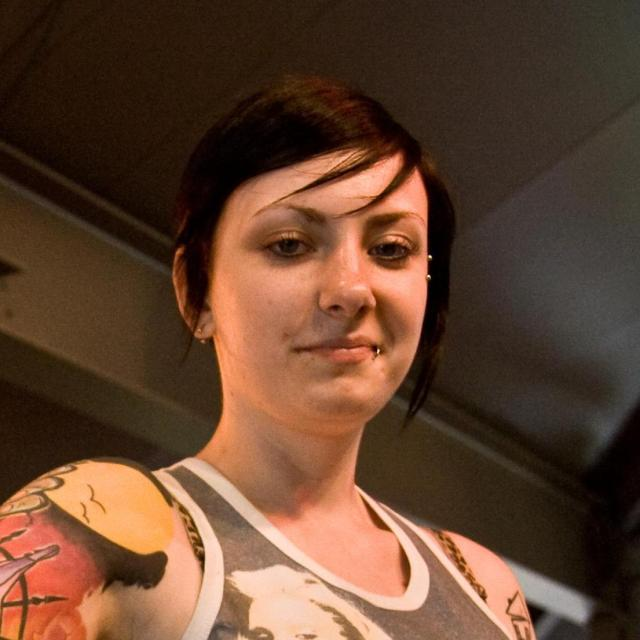no-glass: (250, 231, 414, 272)
